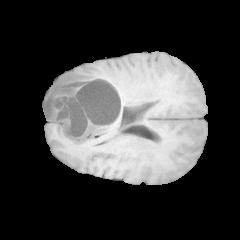glioma: (42, 72, 141, 143)
